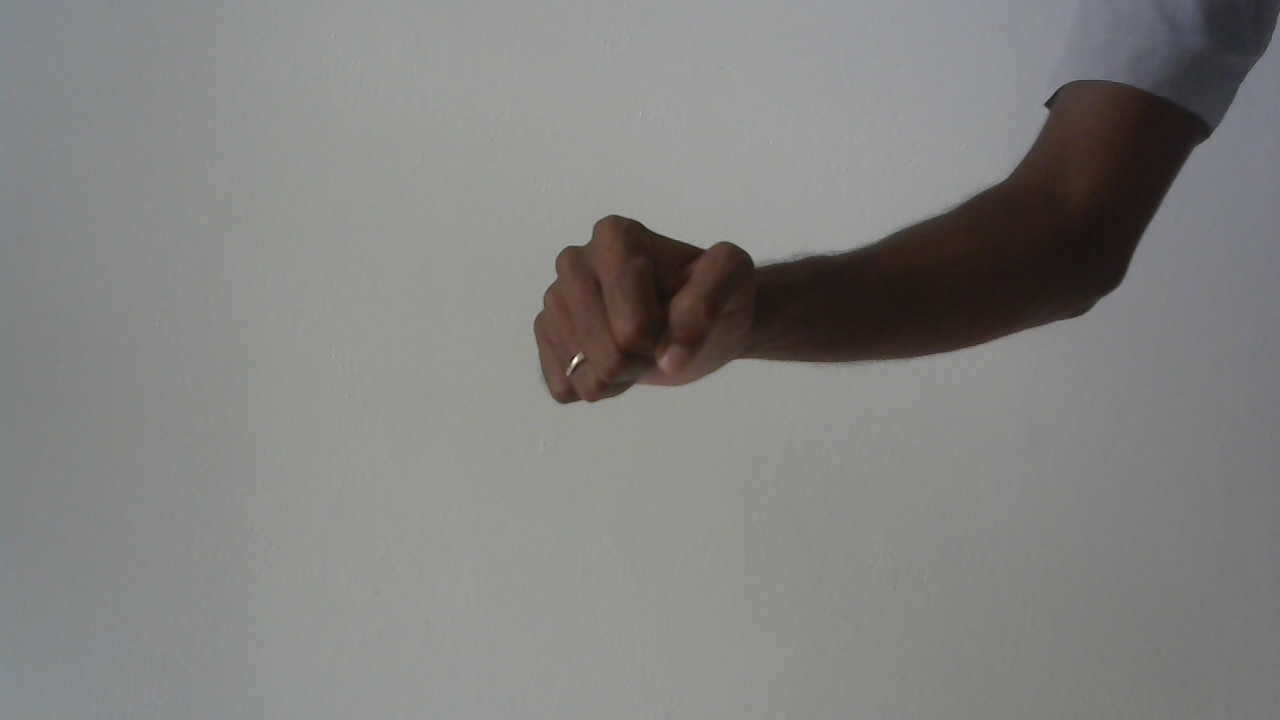yes: (516, 203, 778, 427)
